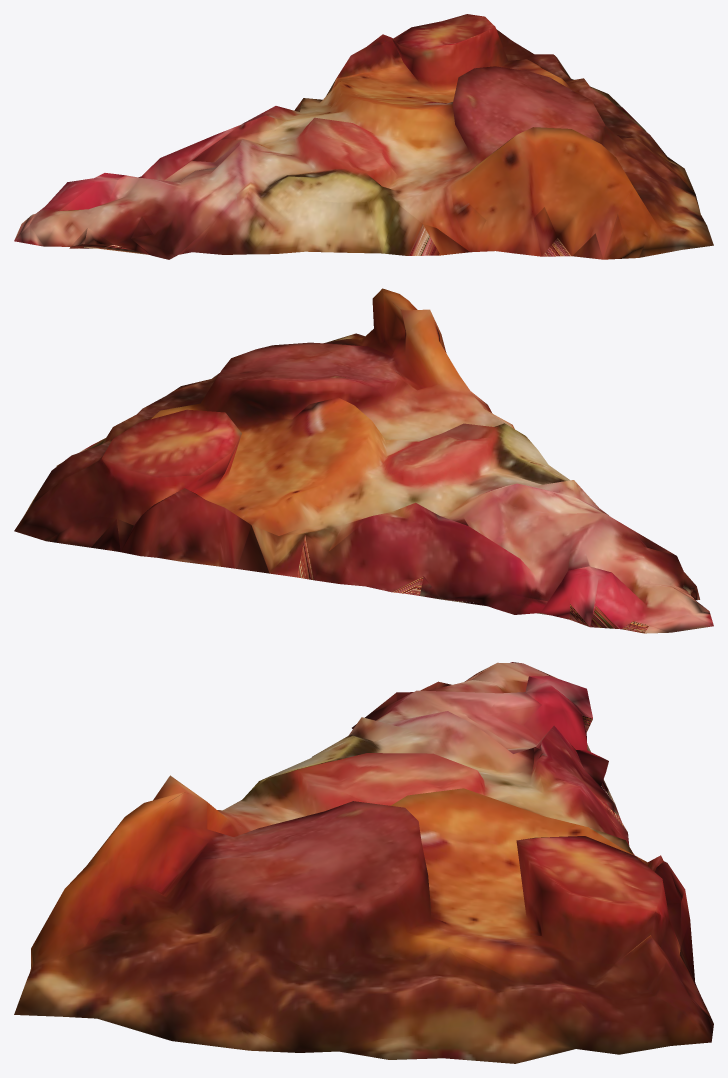
The model's file is pizzaScale.glb.
3 renders of one model, top to bottom at view 1: azimuth 30°, elevation 25°; view 2: azimuth 150°, elevation 25°; view 3: azimuth 270°, elevation 25°, orthographic. The views are drawn at different scales.
Visible parts, largest first — view 1: pizza; view 2: pizza; view 3: pizza.
Part boxes in pixels (x1,y1,x2,y2): pizza: (14, 14, 713, 259); pizza: (14, 288, 713, 633); pizza: (14, 662, 713, 1063).
Size of the model in its own units: 0.1387 by 0.0232 by 0.1016.
Materials: 1 (1 with a texture image).
